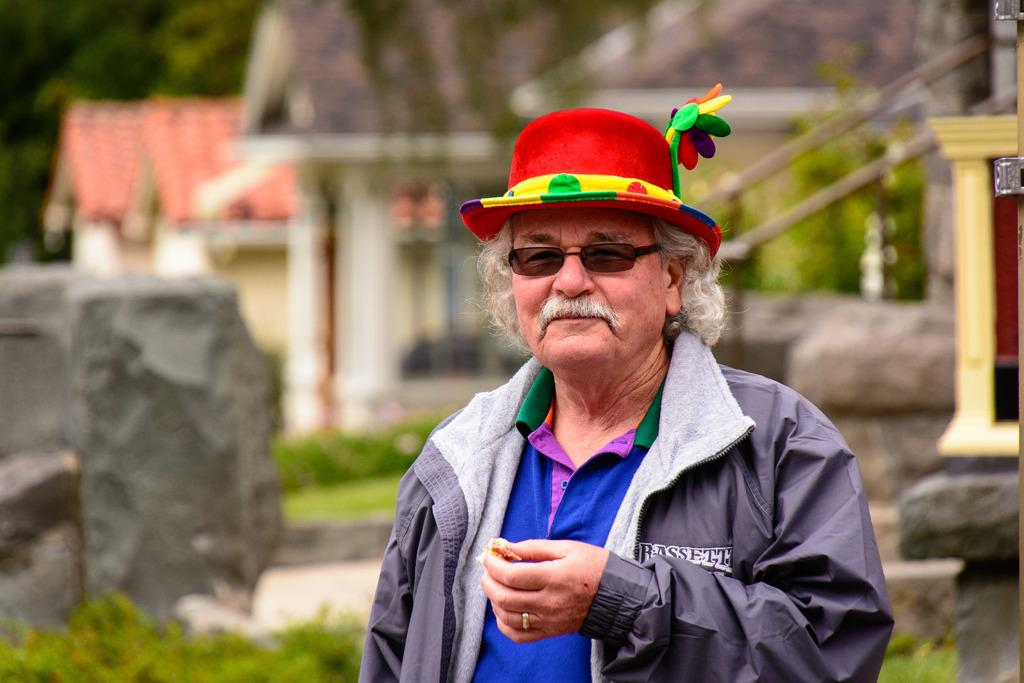Hat: (457, 83, 730, 260)
